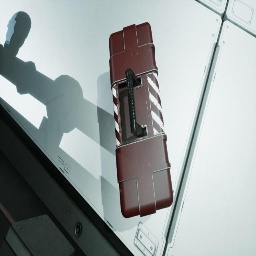FirstAidBox ,: (109, 22, 173, 218)
